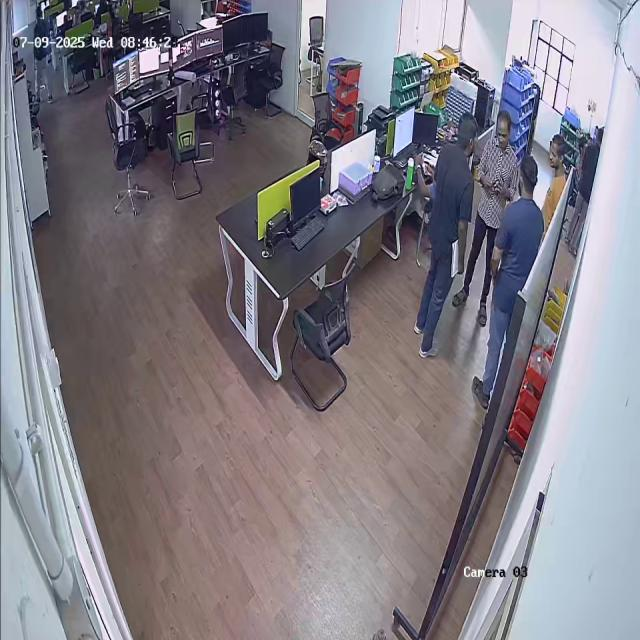person: (480, 156, 546, 405), (413, 108, 478, 357), (478, 107, 516, 317)
